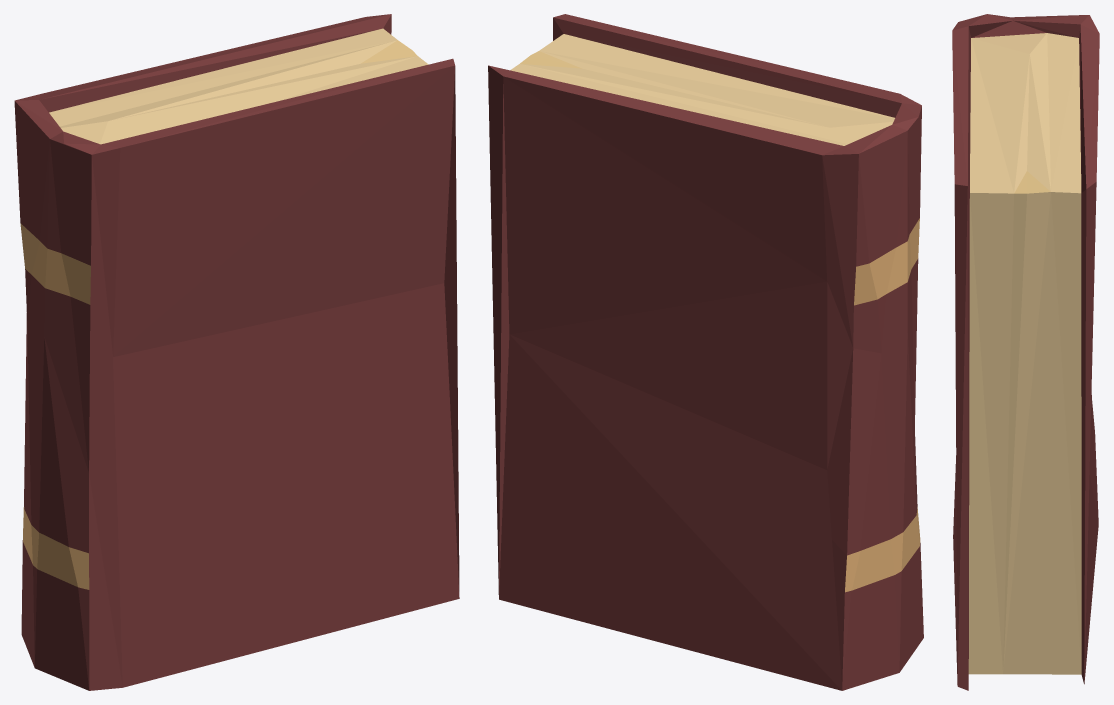
The model's file is SFV_Book_003.fbx.
3 views of the same model, side by side, from view 1: azimuth 30°, elevation 25°; view 2: azimuth 150°, elevation 25°; view 3: azimuth 270°, elevation 25° (orthographic). The views are drawn at different scales.
Parts seen in each view (by area): view 1: SFV_Book_003; view 2: SFV_Book_003; view 3: SFV_Book_003.
Boxes of the visible parts, x1,y1,x2,y2 form: SFV_Book_003: [14, 14, 459, 690]; SFV_Book_003: [488, 14, 923, 690]; SFV_Book_003: [952, 14, 1099, 690].
Size of the model in its own units: 18.29 by 24.61 by 6.5.
